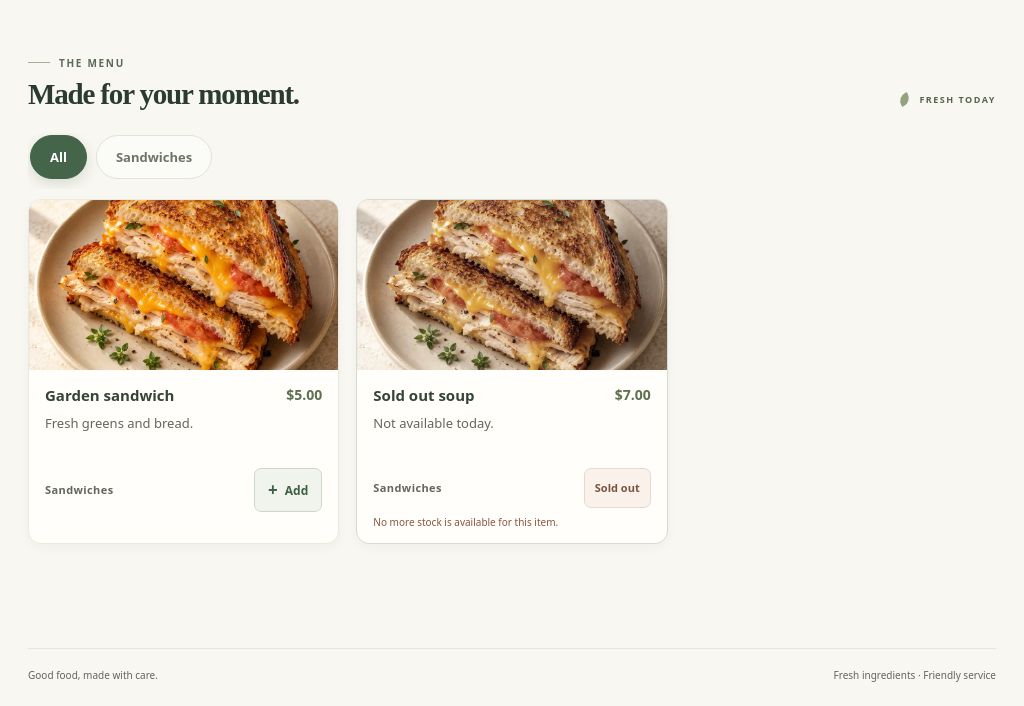
it: checkout client acceptance criteria › AC-D7 BR-X2: the simulated checkout renders no free-text or payment credential inputs
This screenshot has width=1024, height=706.
(page scrolled)
What coordinates should you click on to do the following:
click the button with aria-label "Add Garden sandwich"
I would click on:
 (288, 490)
Its box is [254, 468, 322, 512].
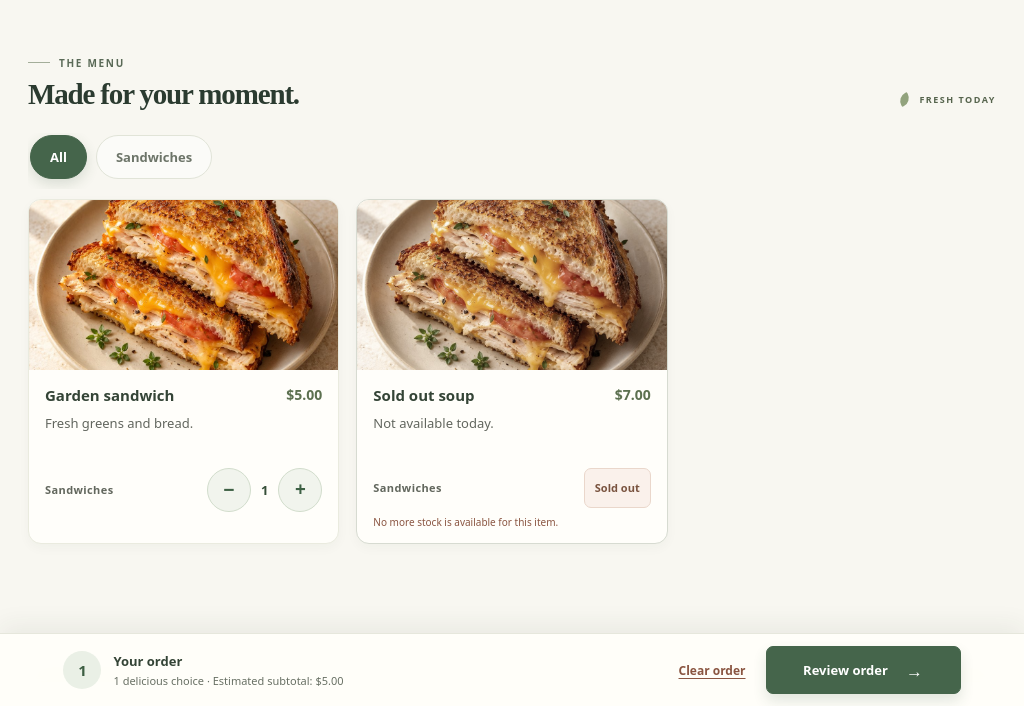
What coordinates should you click on to do the following:
click the button "Review order →"
I would click on:
 (863, 670)
Its box is [766, 646, 960, 694].
(page scrolled)
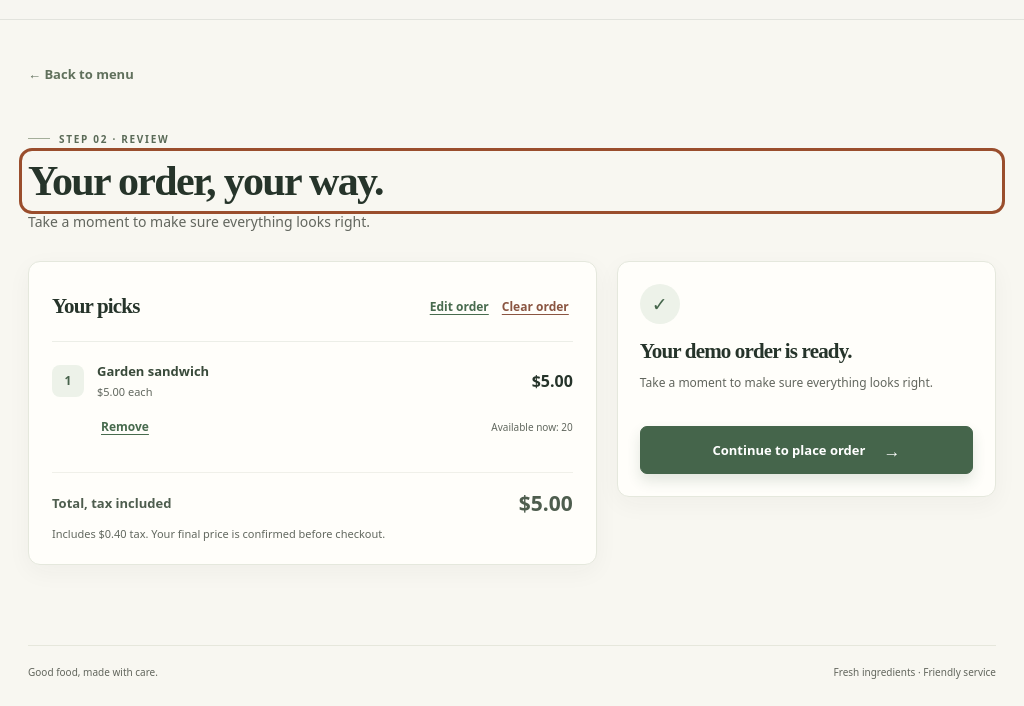
What coordinates should you click on to do the following:
click the button "Continue to place order →"
I would click on:
 (806, 450)
Its box is [640, 426, 973, 474].
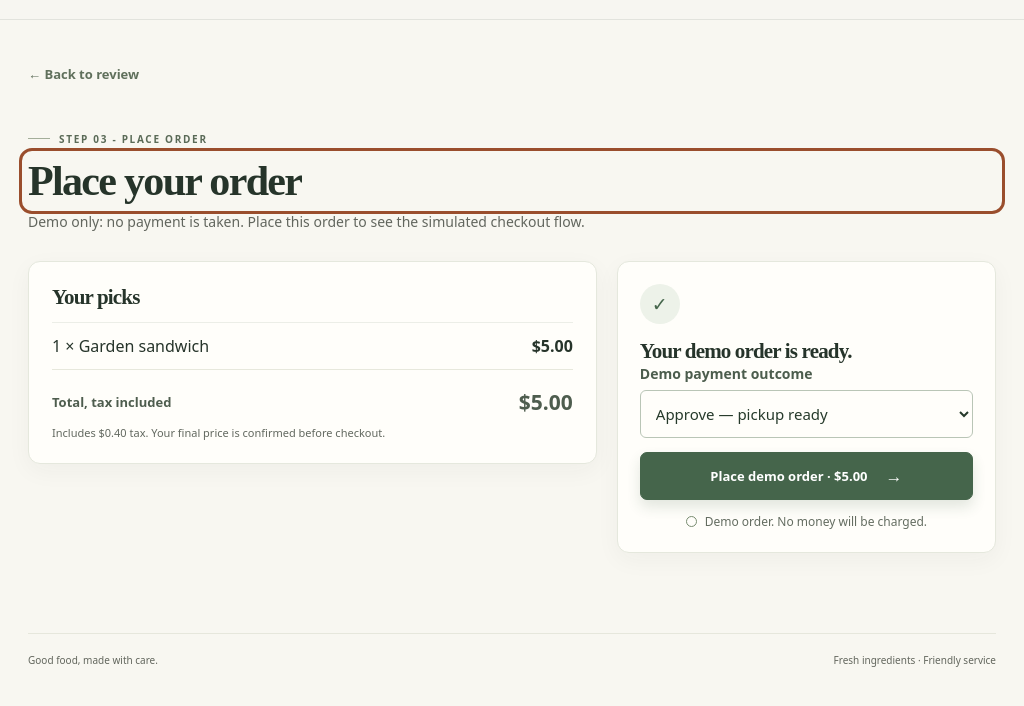
Now the button "Place demo order · $5.00 →" is enabled, box [640, 452, 973, 500]
Now the heading "Place your order" is shown, box [28, 158, 301, 204]
